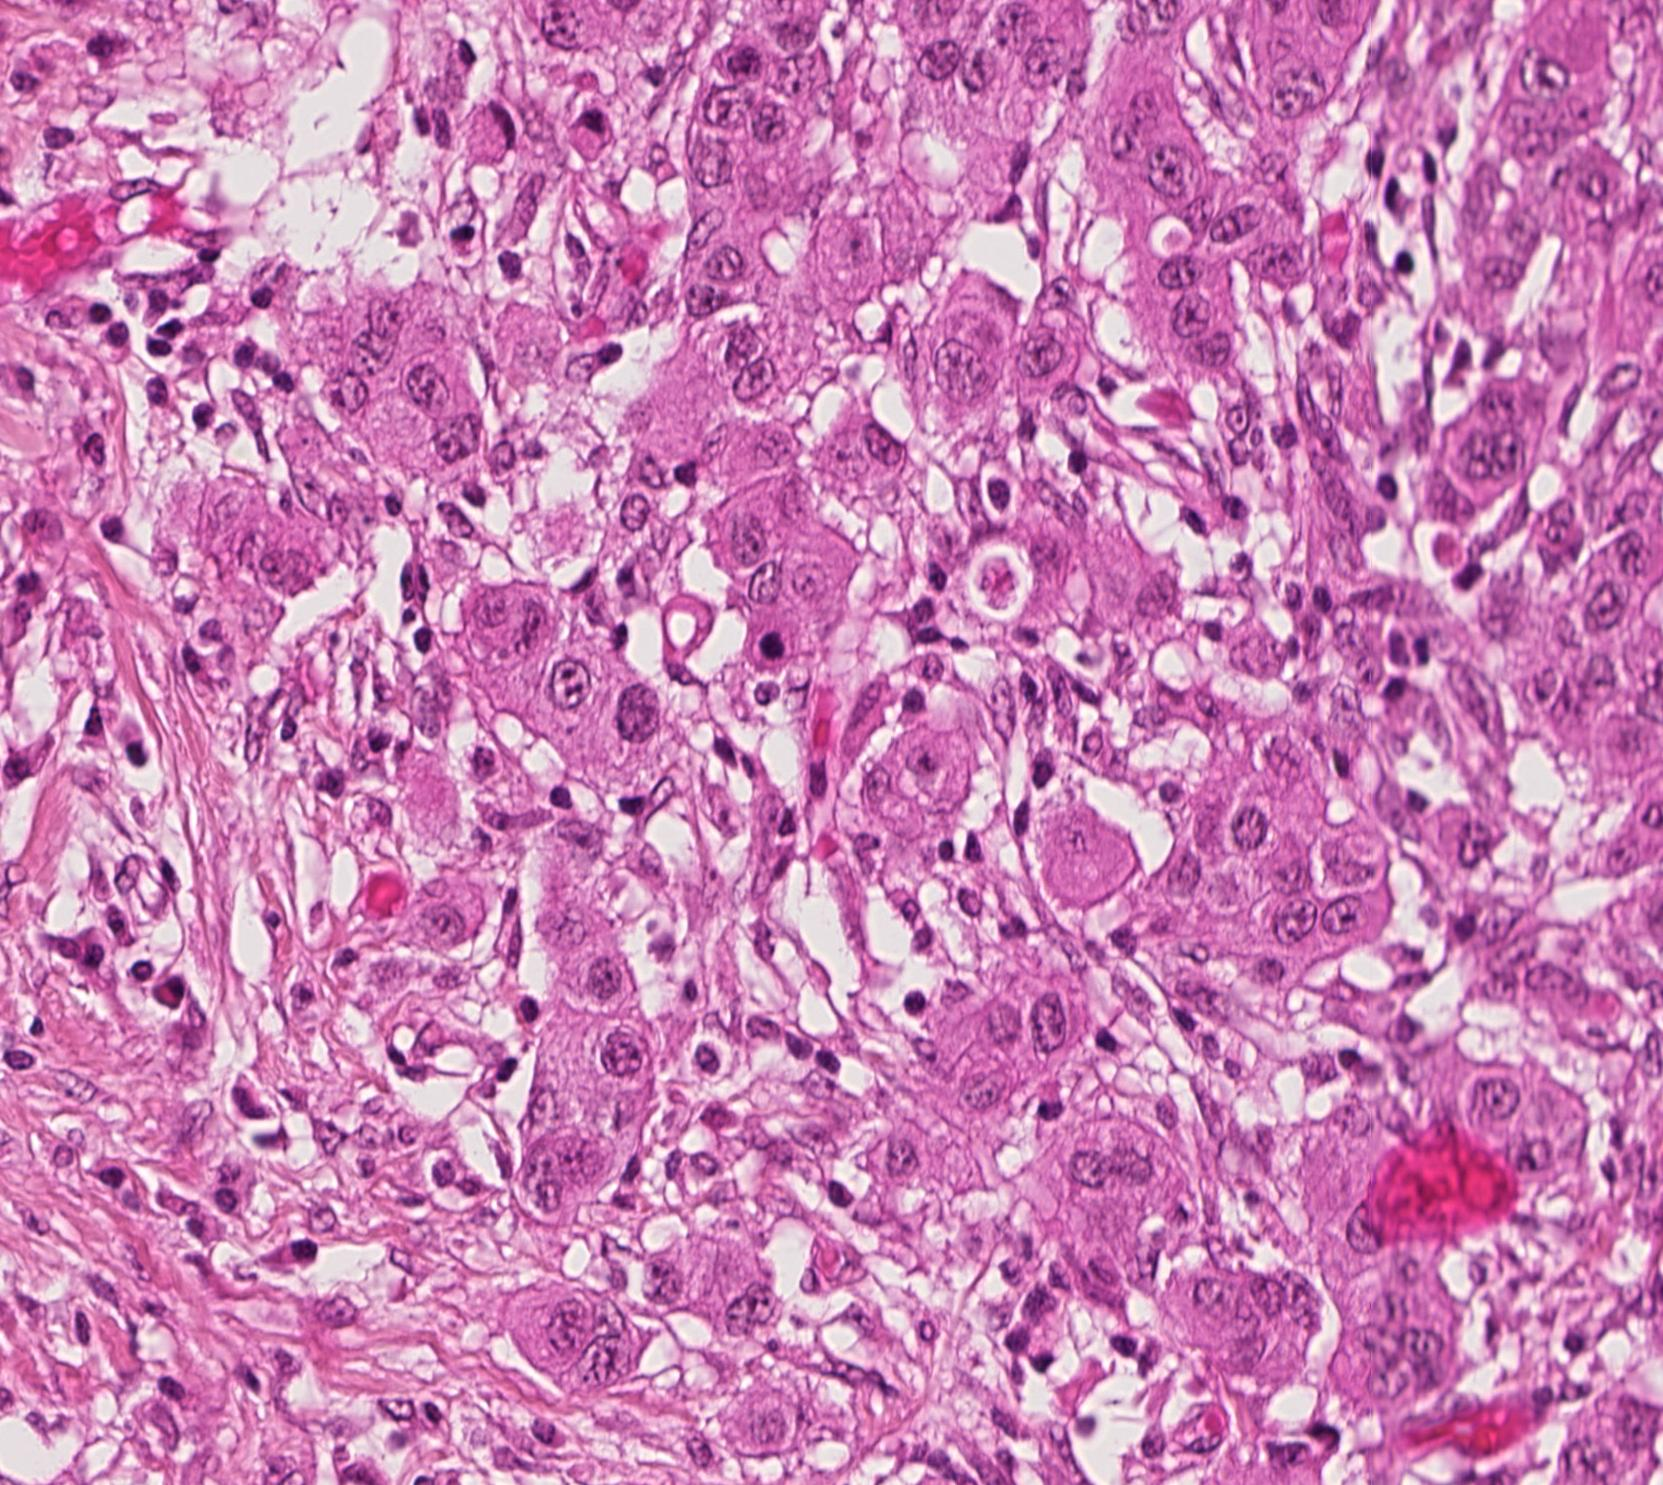mitosis: (734, 616, 794, 677)
